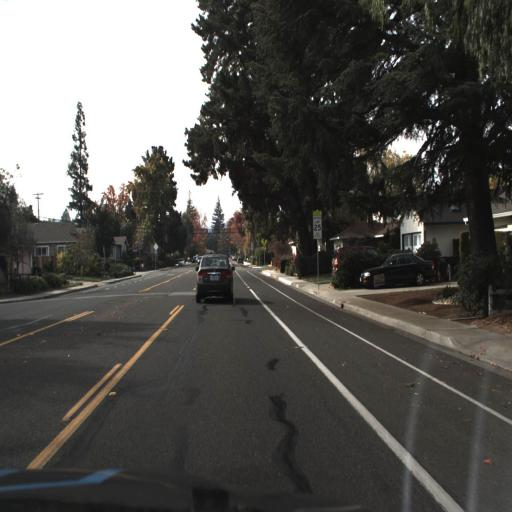car: (358, 248, 436, 290), (196, 254, 234, 302)
